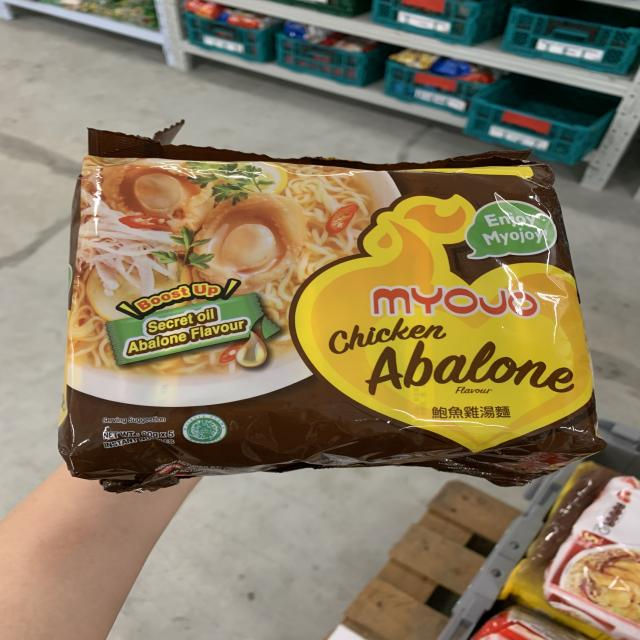object_name: (91, 149, 583, 471)
